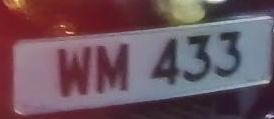3: (213, 27, 247, 81), (181, 30, 213, 85)
4: (147, 32, 186, 93)
M: (91, 39, 138, 101)
W: (51, 40, 98, 106)
